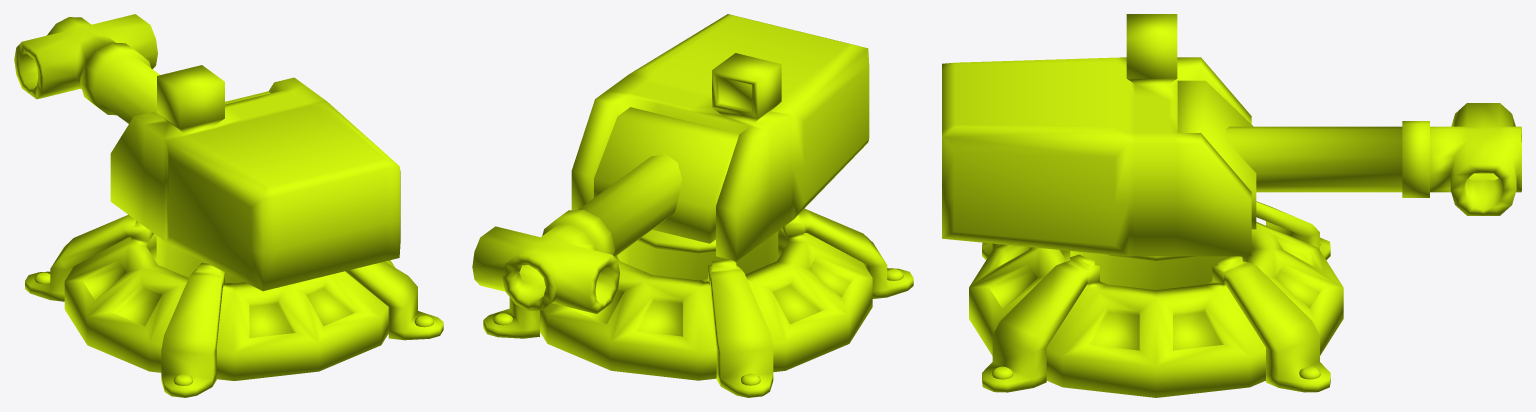
The model's file is 1Turret_b.fbx.
3 views of the same model, side by side, from view 1: azimuth 30°, elevation 25°; view 2: azimuth 150°, elevation 25°; view 3: azimuth 270°, elevation 25° (orthographic). The views are drawn at different scales.
Parts seen in each view (by area): view 1: 1turret_b4, 1turret_b1, 1turret_b6, 1turret_b3, 1turret_b2; view 2: 1turret_b4, 1turret_b1, 1turret_b6, 1turret_b5, 1turret_b3, 1turret_b2; view 3: 1turret_b4, 1turret_b1, 1turret_b6, 1turret_b5, 1turret_b3.
Boxes of the visible parts, x1,y1,x2,y2 form: 1turret_b4: (110,65,400,291); 1turret_b1: (25,214,443,397); 1turret_b6: (14,14,161,123); 1turret_b3: (156,236,244,283); 1turret_b2: (34,272,433,385); 1turret_b4: (571,14,869,261); 1turret_b1: (483,208,913,397); 1turret_b6: (472,154,681,313); 1turret_b5: (594,107,739,243); 1turret_b3: (618,229,778,280); 1turret_b2: (493,269,903,385); 1turret_b4: (942,14,1251,256); 1turret_b1: (969,201,1343,397); 1turret_b6: (1225,103,1521,215); 1turret_b5: (1177,80,1256,229); 1turret_b3: (1070,251,1241,289).
Bounding box in the file's own units: 18.23 × 14.41 × 28.2.
